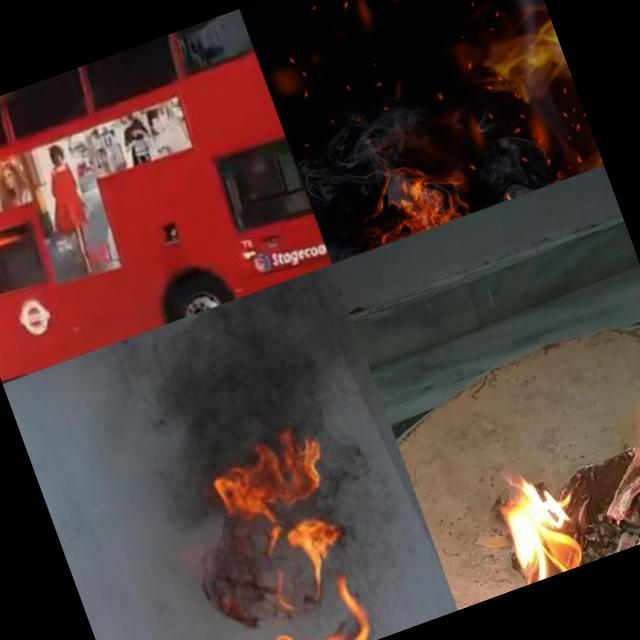fire: (272, 0, 604, 263), (226, 424, 368, 612), (471, 474, 593, 594), (173, 581, 404, 640), (625, 371, 640, 477)
smoke: (117, 270, 371, 500), (176, 501, 285, 640)
